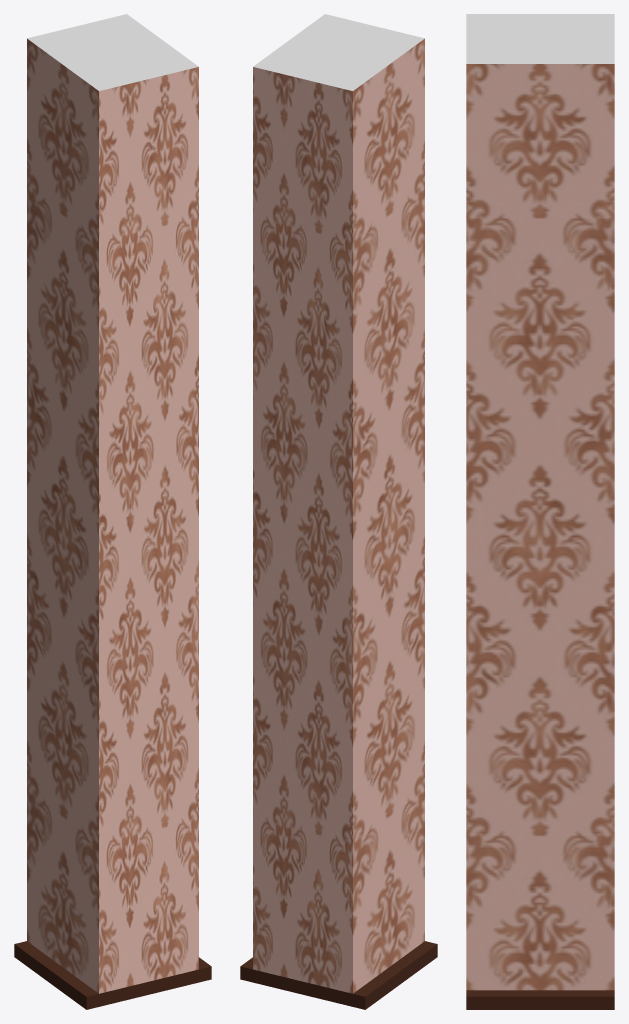
File: wallColumn.fbx
3 renders of one model, left to right at view 1: azimuth 30°, elevation 25°; view 2: azimuth 150°, elevation 25°; view 3: azimuth 270°, elevation 25°, orthographic. The views are drawn at different scales.
Parts seen in each view (by area): view 1: wallColumn; view 2: wallColumn; view 3: wallColumn.
Boxes of the visible parts, box(x1,y1,x2,y2) form: wallColumn: box(14, 14, 211, 1009); wallColumn: box(240, 14, 437, 1009); wallColumn: box(466, 14, 614, 1009).
Bounding box in the file's own units: 100 × 700 × 100.
